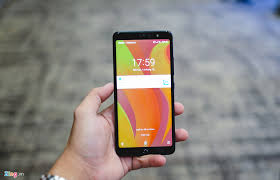vsmart: (111, 25, 177, 158)
